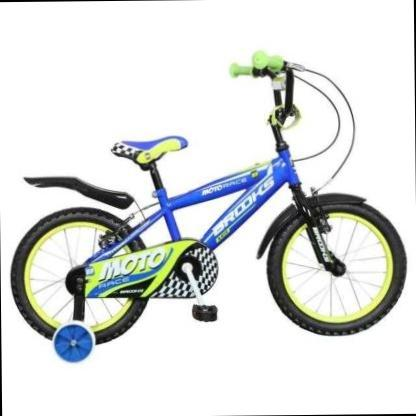Bicycle: (6, 28, 411, 372)
